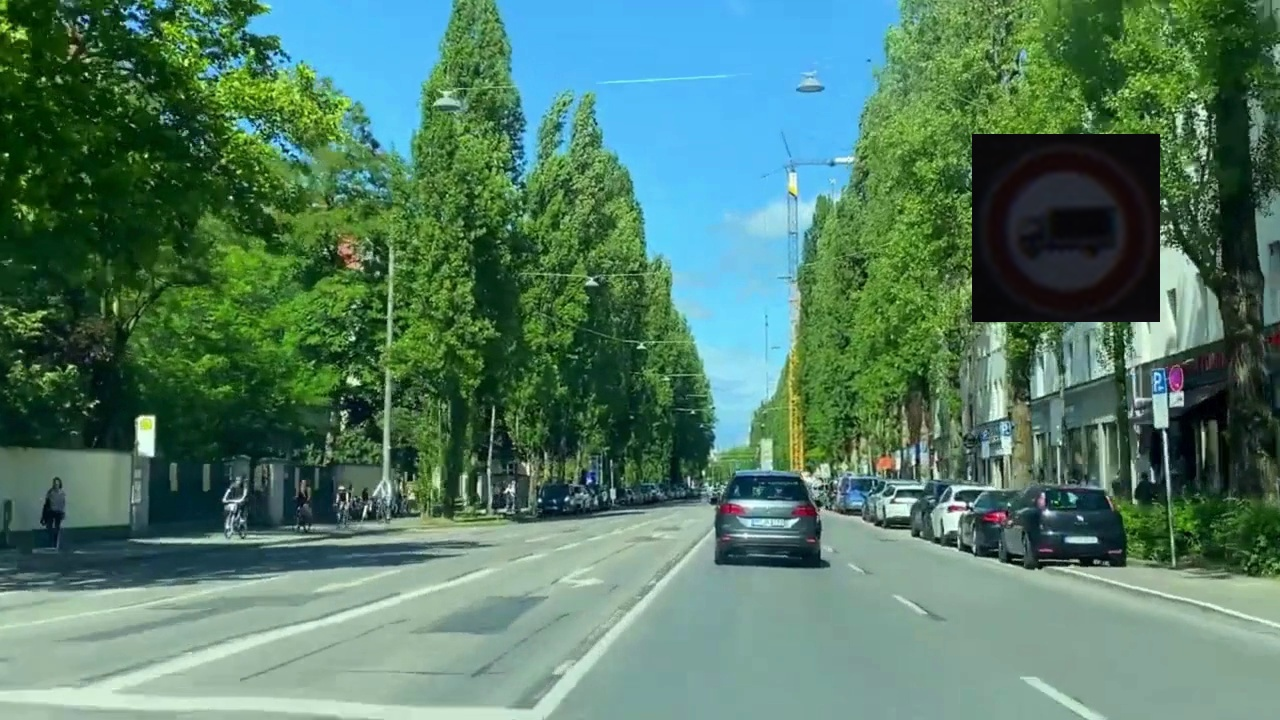Veh >3.5t prohib: (972, 134, 1160, 322)
